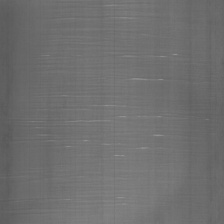waist_folding: (39, 10, 166, 192)
